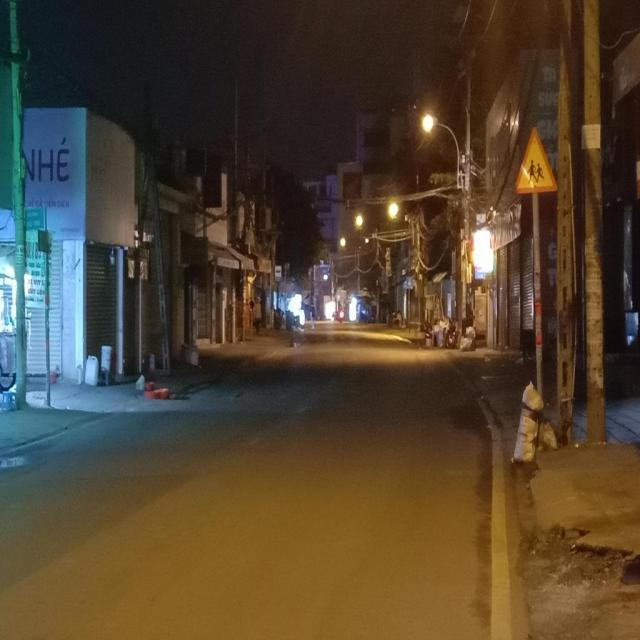chu_y_tre_em: (514, 125, 559, 197)
